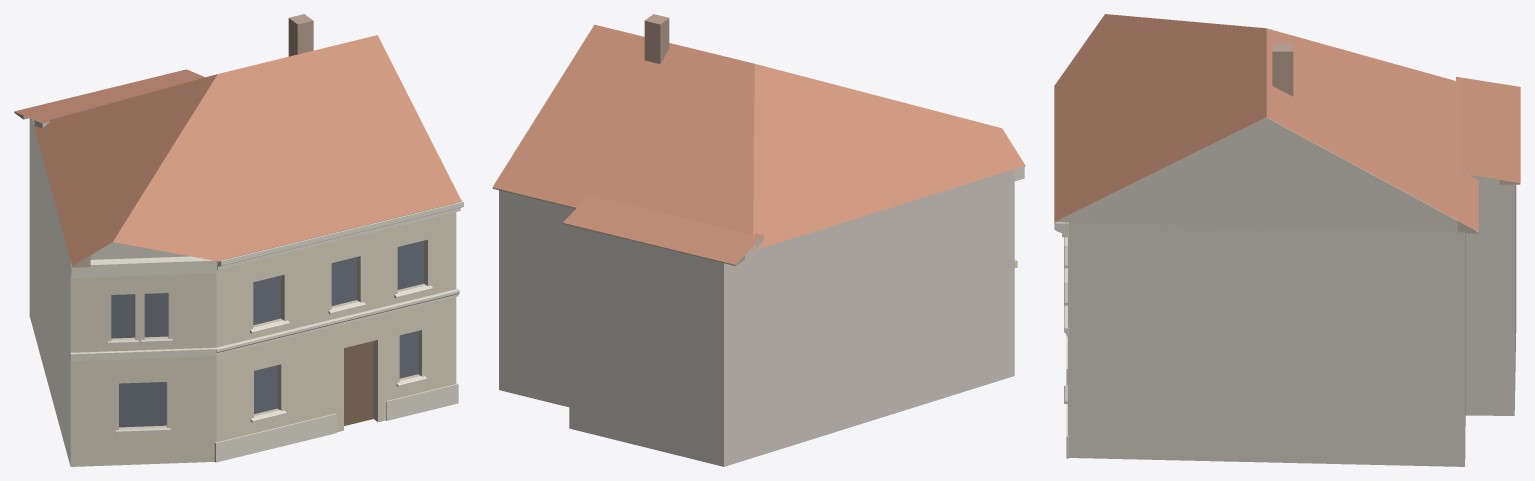
3 renders of one model, left to right at view 1: azimuth 30°, elevation 25°; view 2: azimuth 150°, elevation 25°; view 3: azimuth 270°, elevation 25°, orthographic. The views are drawn at different scales.
Visible parts, largest first — view 1: CP_1188_Masonry, CP_1188_Roof, CP_1188_WingRoof_RearWing, CP_1188_Cornice_plinth_0, CP_1188_Cornice_corner_main, CP_1188_Cornice_main_0, CP_1188_Cornice_string_0, CP_1188_Cornice_plinth_1, CP_1188_Cornice_corner_string, CP_1188_AtticClosure, CP_1188_Chimney_0; view 2: CP_1188_Masonry, CP_1188_Roof, CP_1188_WingRoof_RearWing, CP_1188_Chimney_0; view 3: CP_1188_Masonry, CP_1188_Roof, CP_1188_Gable_R_gable, CP_1188_WingRoof_RearWing, CP_1188_Chimney_0.
Boxes of the visible parts, left/top/right/bottom form: CP_1188_Masonry: left=29, top=118, right=456, bottom=466; CP_1188_Roof: left=33, top=35, right=461, bottom=266; CP_1188_WingRoof_RearWing: left=14, top=69, right=205, bottom=123; CP_1188_Cornice_plinth_0: left=214, top=413, right=336, bottom=462; CP_1188_Cornice_corner_main: left=70, top=256, right=217, bottom=277; CP_1188_Cornice_main_0: left=217, top=199, right=463, bottom=269; CP_1188_Cornice_string_0: left=216, top=288, right=459, bottom=354; CP_1188_Cornice_plinth_1: left=386, top=383, right=458, bottom=420; CP_1188_Cornice_corner_string: left=70, top=347, right=216, bottom=361; CP_1188_AtticClosure: left=33, top=119, right=188, bottom=259; CP_1188_Chimney_0: left=288, top=14, right=313, bottom=56; CP_1188_Masonry: left=499, top=169, right=1014, bottom=466; CP_1188_Roof: left=492, top=24, right=1025, bottom=250; CP_1188_WingRoof_RearWing: left=563, top=195, right=763, bottom=264; CP_1188_Chimney_0: left=644, top=14, right=669, bottom=63; CP_1188_Masonry: left=1068, top=180, right=1516, bottom=466; CP_1188_Roof: left=1054, top=14, right=1478, bottom=231; CP_1188_Gable_R_gable: left=1054, top=117, right=1478, bottom=232; CP_1188_WingRoof_RearWing: left=1456, top=76, right=1520, bottom=182; CP_1188_Chimney_0: left=1272, top=43, right=1293, bottom=96.
Size of the model in its own units: 14.32 by 12 by 13.47.
